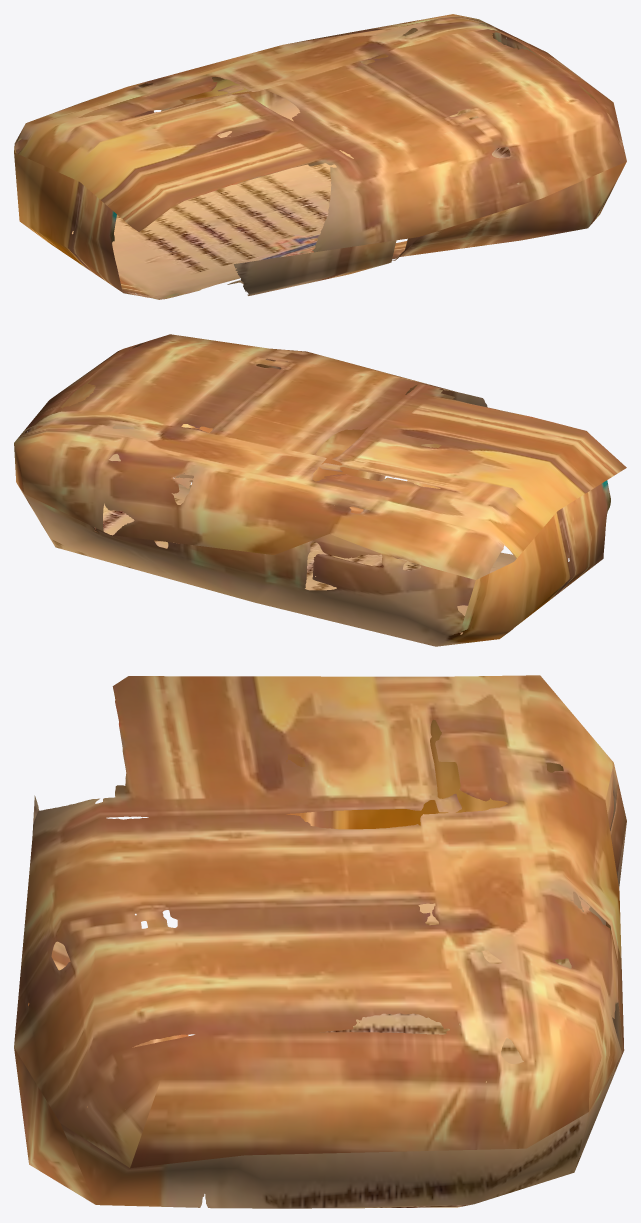
3 views of the same model, one above another, from view 1: azimuth 30°, elevation 25°; view 2: azimuth 150°, elevation 25°; view 3: azimuth 270°, elevation 25° (orthographic). The views are drawn at different scales.
Visible parts, largest first — view 1: SM_Papers_01_LOD0; view 2: SM_Papers_01_LOD0; view 3: SM_Papers_01_LOD0.
Part boxes in pixels (bbox=[...]): SM_Papers_01_LOD0: bbox=[14, 14, 626, 299]; SM_Papers_01_LOD0: bbox=[14, 334, 626, 646]; SM_Papers_01_LOD0: bbox=[14, 675, 626, 1208].
Bounding box in the file's own units: 0.5379 × 0.1295 × 0.3456.
